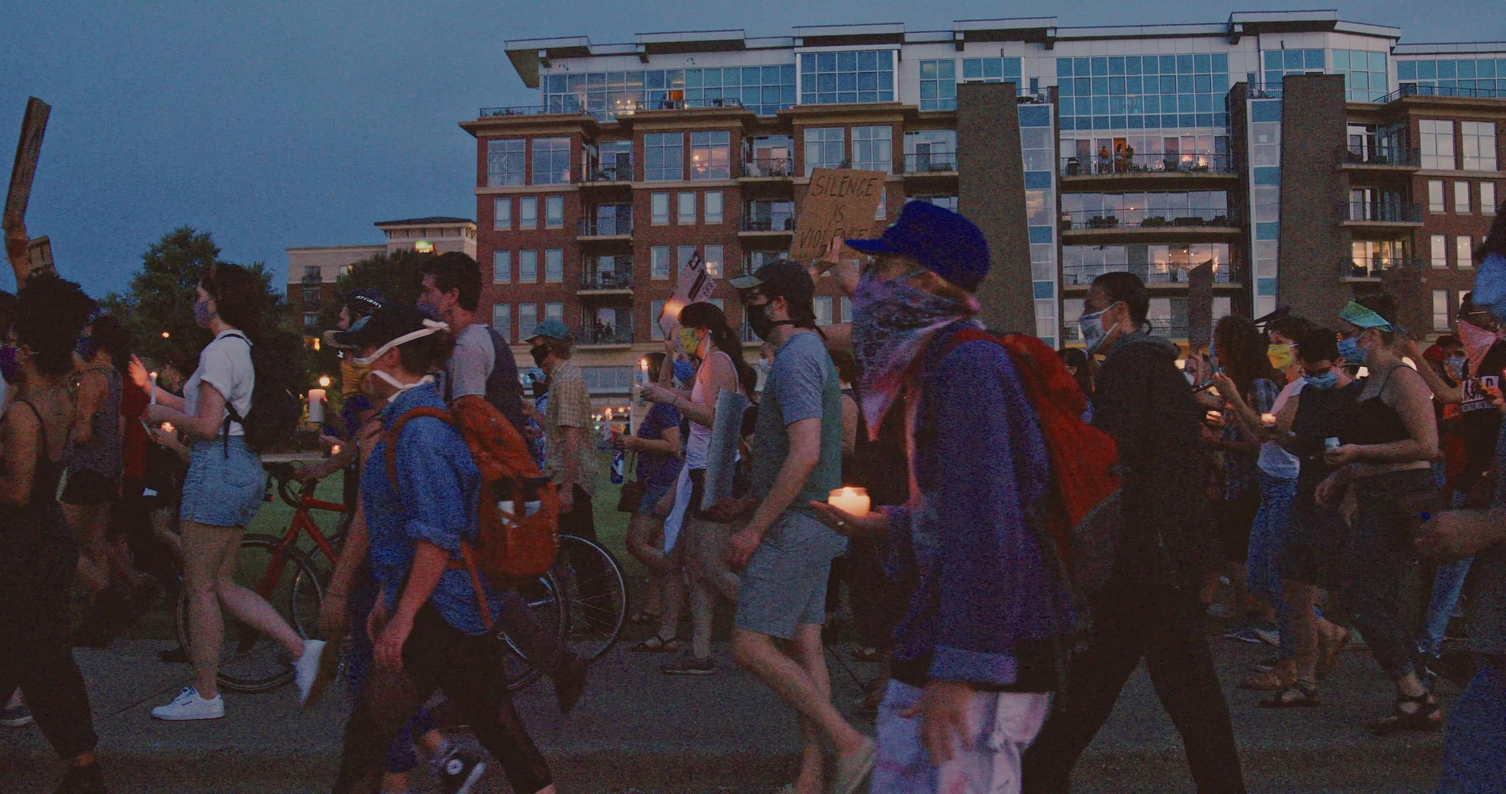no-helmet: (844, 198, 993, 355), (323, 306, 451, 398), (0, 271, 99, 386), (728, 258, 819, 342), (194, 261, 272, 341), (1078, 272, 1150, 356), (417, 250, 484, 325), (1336, 291, 1399, 366), (675, 300, 742, 364), (1298, 326, 1349, 391), (518, 318, 577, 369), (1265, 316, 1321, 369), (1455, 291, 1503, 352), (1437, 332, 1469, 383)
